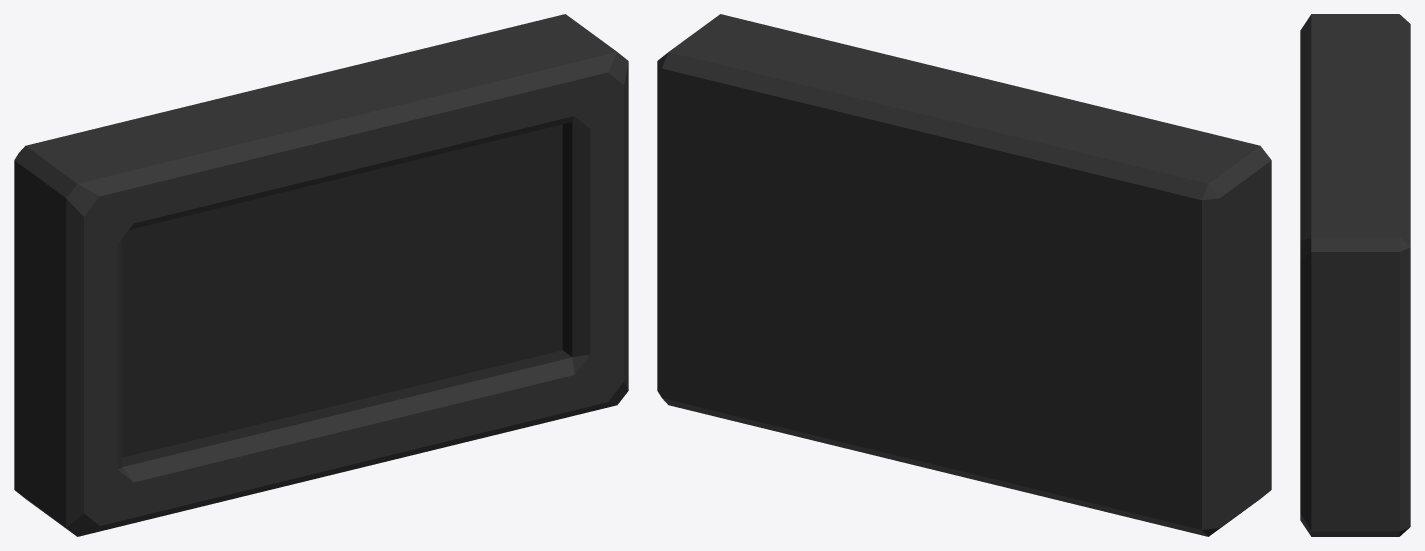
The model's file is HJD_SFB_Monitor_03.fbx.
3 views of the same model, side by side, from view 1: azimuth 30°, elevation 25°; view 2: azimuth 150°, elevation 25°; view 3: azimuth 270°, elevation 25° (orthographic). The views are drawn at different scales.
Visible parts, largest first — view 1: Base, Screen; view 2: Base; view 3: Base.
Boxes of the visible parts, left/top/right/bottom form: Base: left=14, top=14, right=628, bottom=536; Screen: left=122, top=122, right=572, bottom=466; Base: left=657, top=14, right=1271, bottom=536; Base: left=1300, top=14, right=1410, bottom=536.
Size of the model in its own units: 100 by 60 by 20.
